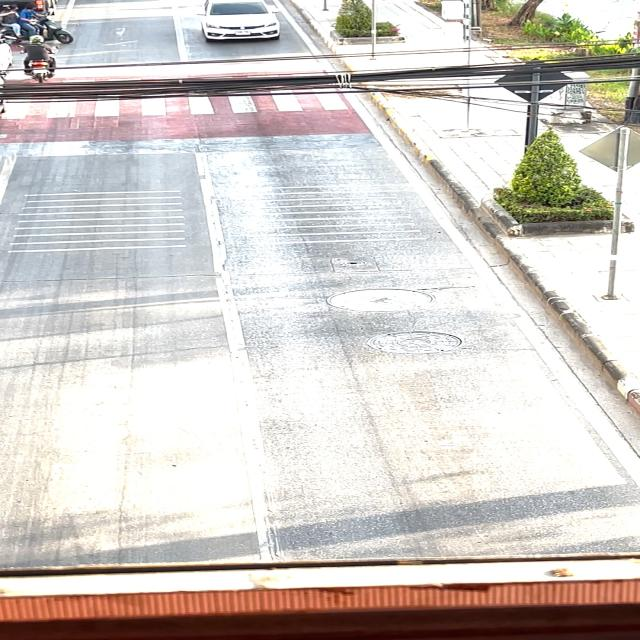car: (179, 1, 300, 51)
